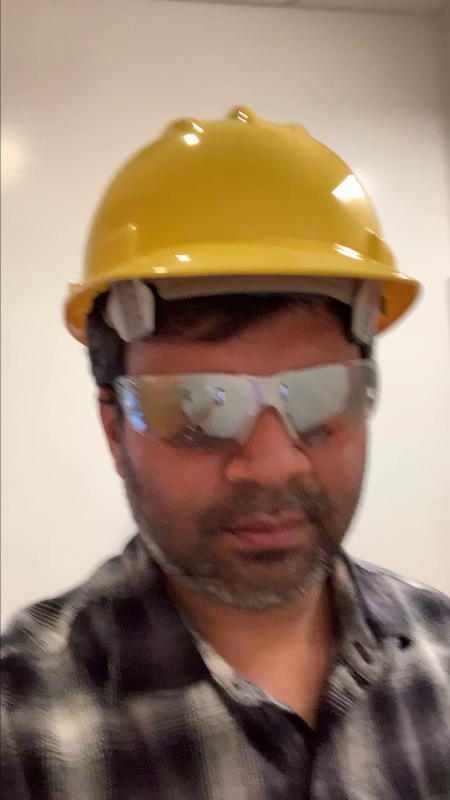glasses: (121, 361, 384, 443)
helmet: (75, 99, 423, 294)
